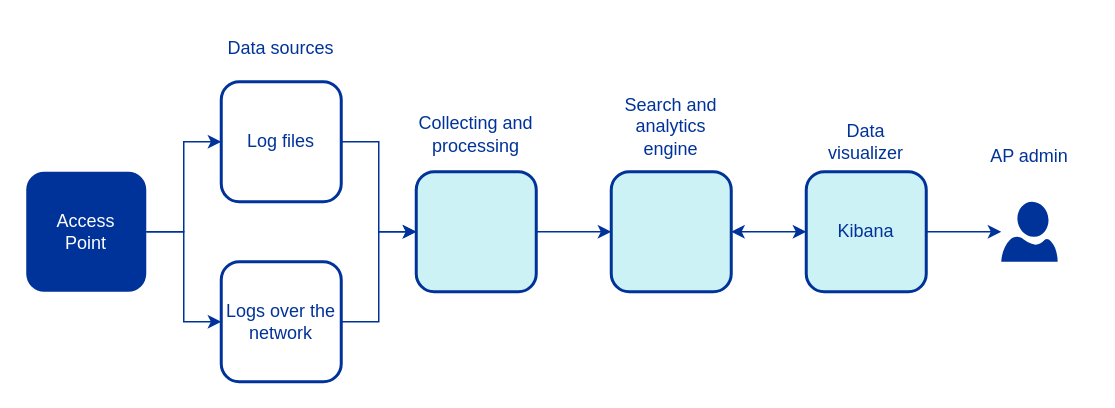
The diagram is 1115 pixels wide and 408 high, and some of its shapes have lost their labels. Here are the shapes that lost their labels. From the top down, the box of each, then its label:
(414, 170, 537, 292): Logstash
(609, 170, 732, 292): Elasticsearch
